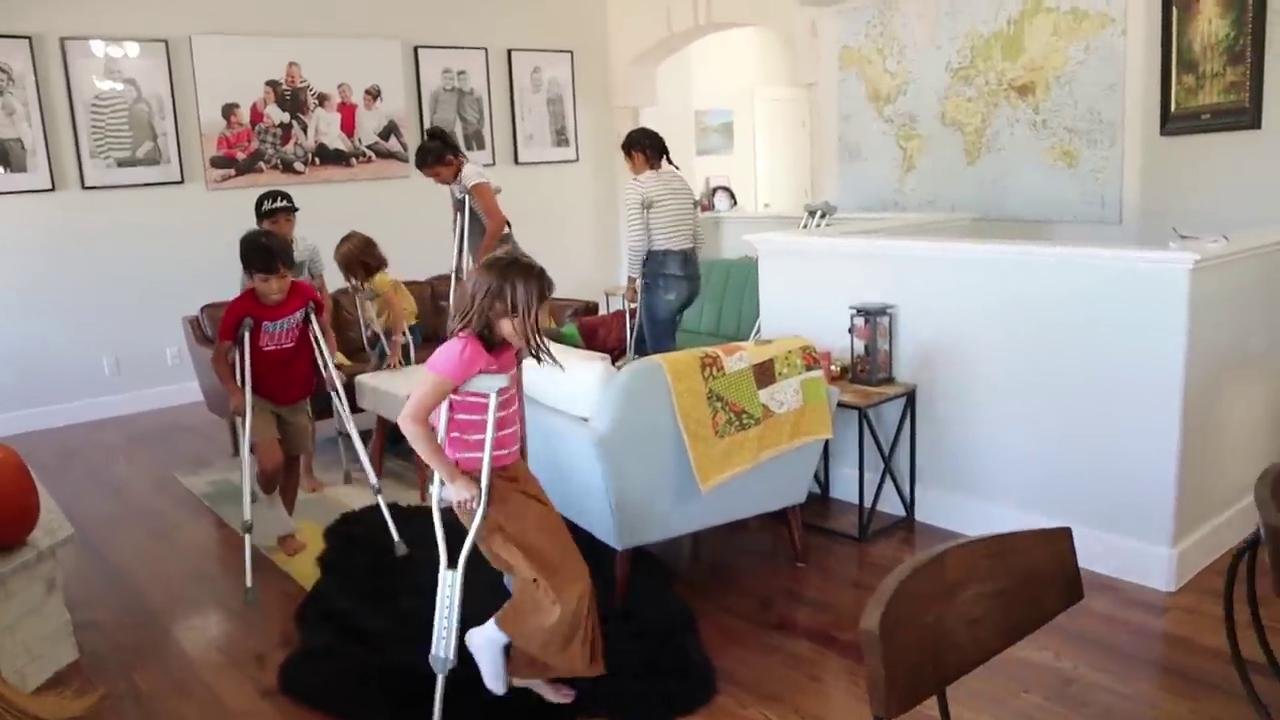crutches: (396, 250, 605, 719)
